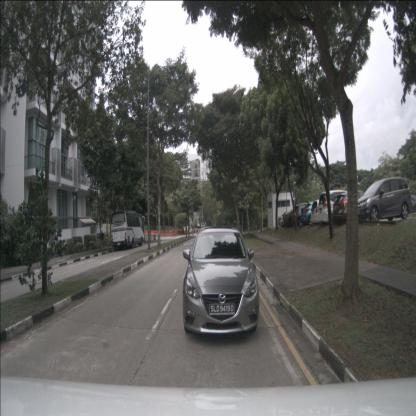human-pedestrian-adult: (101, 230, 105, 249)
vehicle-bus-rigid: (110, 211, 145, 249)
vehicle-car: (183, 226, 259, 337), (354, 177, 412, 224), (332, 191, 375, 224), (318, 190, 357, 224), (310, 199, 341, 225), (300, 201, 330, 226), (291, 202, 320, 226), (394, 194, 416, 218), (283, 209, 309, 227), (278, 211, 302, 227)
